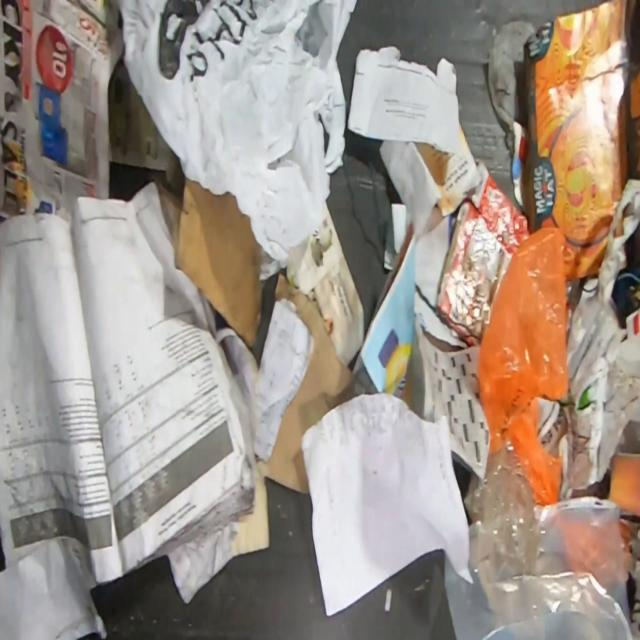cardboard: (522, 0, 640, 281), (252, 273, 352, 493), (436, 157, 530, 348), (172, 176, 274, 349)
soft_plastic: (118, 0, 358, 281), (443, 438, 640, 640), (556, 177, 640, 501), (476, 226, 570, 506)
